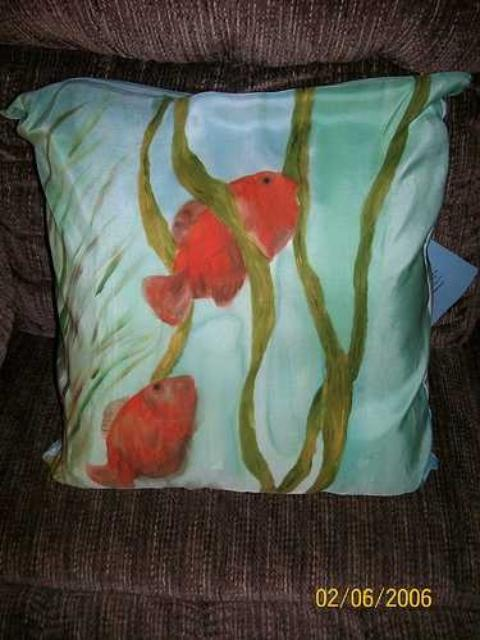pillow: (2, 69, 472, 495)
